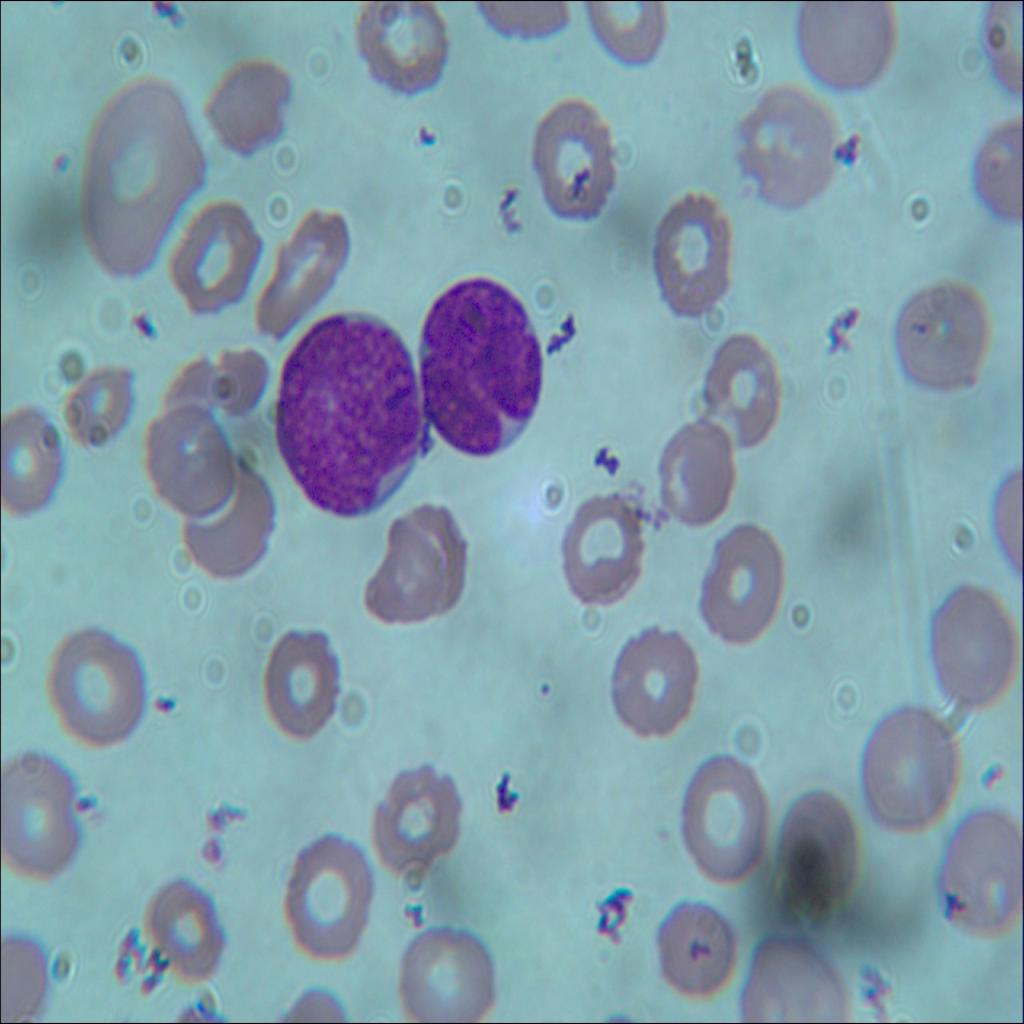Eritrosit: (71, 74, 206, 287), (678, 742, 780, 888), (243, 197, 348, 334), (38, 618, 146, 748), (851, 702, 958, 831), (926, 809, 1024, 944), (930, 577, 1022, 719), (0, 755, 102, 881), (888, 278, 989, 401), (733, 91, 836, 211), (553, 481, 648, 608), (535, 97, 623, 228), (743, 928, 864, 1023), (604, 621, 698, 741), (374, 757, 468, 877), (646, 882, 736, 1007), (290, 832, 374, 964), (188, 458, 278, 580), (166, 192, 258, 310), (648, 192, 733, 318), (776, 782, 864, 903), (364, 517, 468, 619), (150, 404, 238, 524), (348, 0, 448, 103), (141, 864, 224, 981), (789, 0, 889, 97), (202, 52, 295, 155), (706, 335, 788, 450), (169, 345, 270, 432), (262, 634, 348, 735), (404, 922, 489, 1023), (701, 541, 783, 645), (0, 401, 59, 530), (658, 432, 742, 517), (958, 127, 1024, 221), (66, 365, 140, 448), (569, 0, 668, 59)
Limfoblast: (278, 310, 424, 528), (411, 275, 543, 451)
Platelet: (36, 138, 78, 194), (73, 776, 116, 826), (410, 118, 450, 150), (149, 688, 178, 732), (128, 294, 149, 342), (939, 875, 962, 915), (532, 677, 562, 701)
